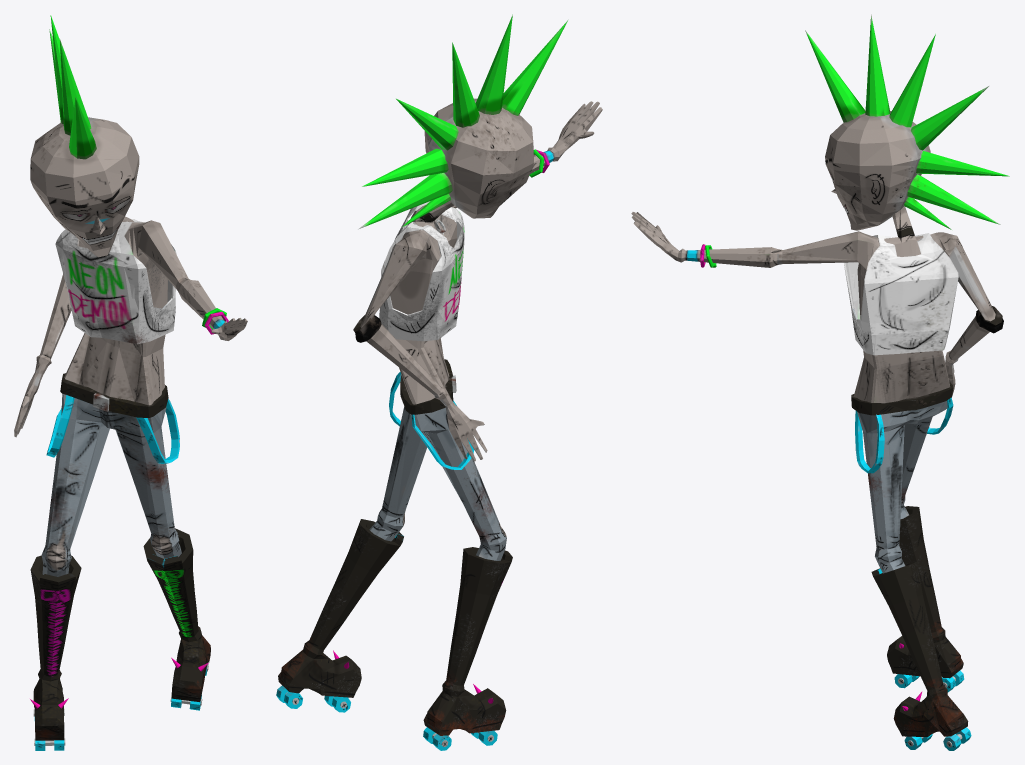
File: punkAnimation_000020.obj
The picture shows the model from 3 angles, left to right: view 1: azimuth 30°, elevation 25°; view 2: azimuth 150°, elevation 25°; view 3: azimuth 270°, elevation 25°; orthographic projection. The views are drawn at different scales.
Parts seen in each view (by area): view 1: Cube.004_Cube.003; view 2: Cube.004_Cube.003; view 3: Cube.004_Cube.003.
Part boxes in pixels (left/top/right/bottom): Cube.004_Cube.003: left=14, top=15, right=247, bottom=750; Cube.004_Cube.003: left=276, top=14, right=602, bottom=750; Cube.004_Cube.003: left=631, top=14, right=1009, bottom=750.
Bounding box in the file's own units: 2.28 × 7.35 × 3.8.
